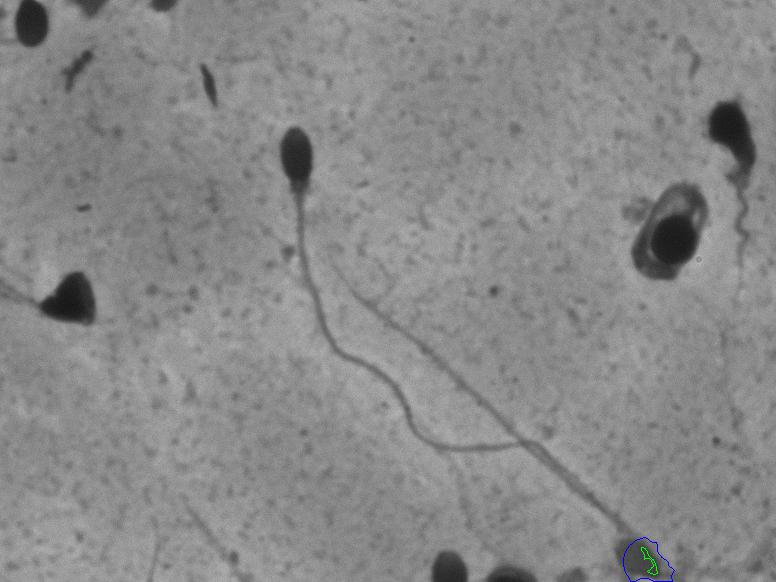Normal: (273, 112, 652, 531)
